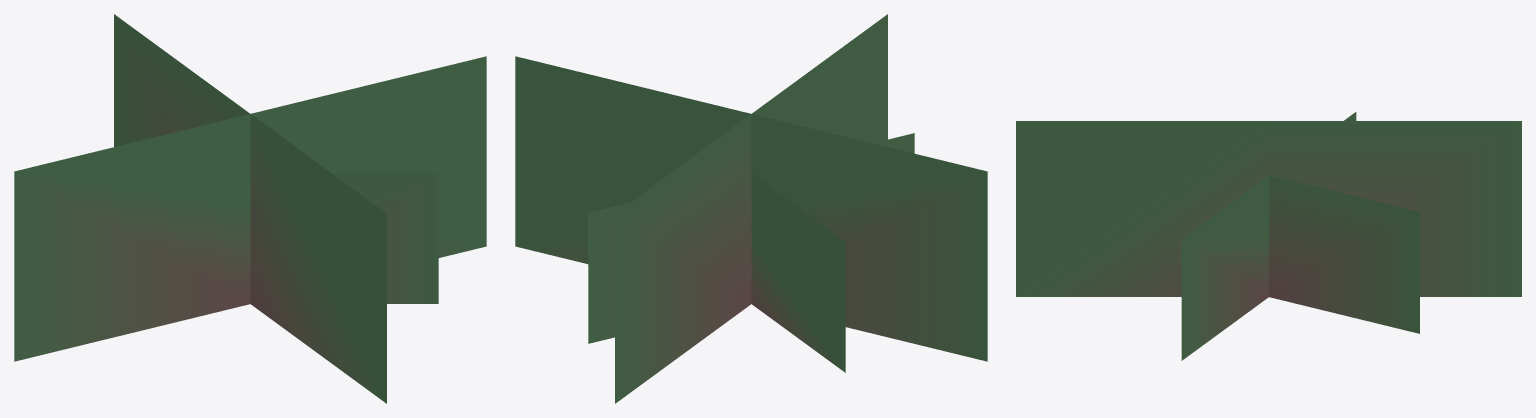
File: tree-shrub.glb
3 renders of one model, left to right at view 1: azimuth 30°, elevation 25°; view 2: azimuth 150°, elevation 25°; view 3: azimuth 270°, elevation 25°, orthographic. The views are drawn at different scales.
Parts seen in each view (by area): view 1: tree-shrub; view 2: tree-shrub; view 3: tree-shrub.
Part boxes in pixels (x1,y1,x2,y2): tree-shrub: (14, 14, 486, 403); tree-shrub: (515, 14, 987, 403); tree-shrub: (1016, 112, 1521, 360).
Size of the model in its own units: 0.78 by 0.3 by 0.78.
